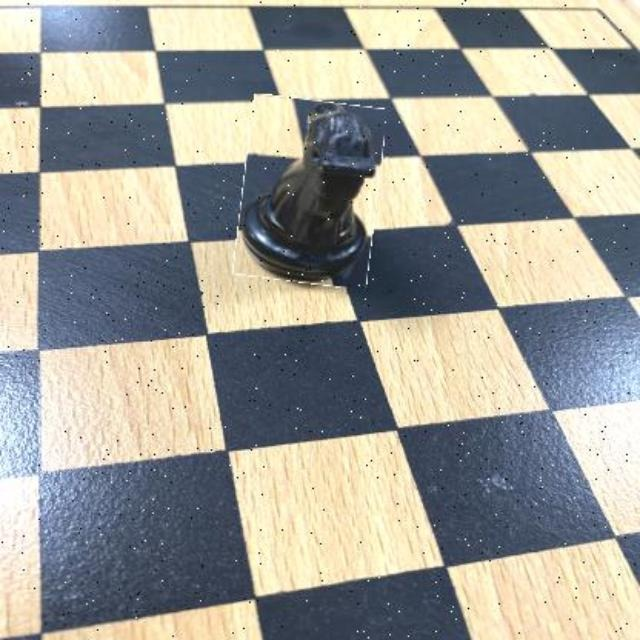black-knight: (238, 97, 382, 286)
